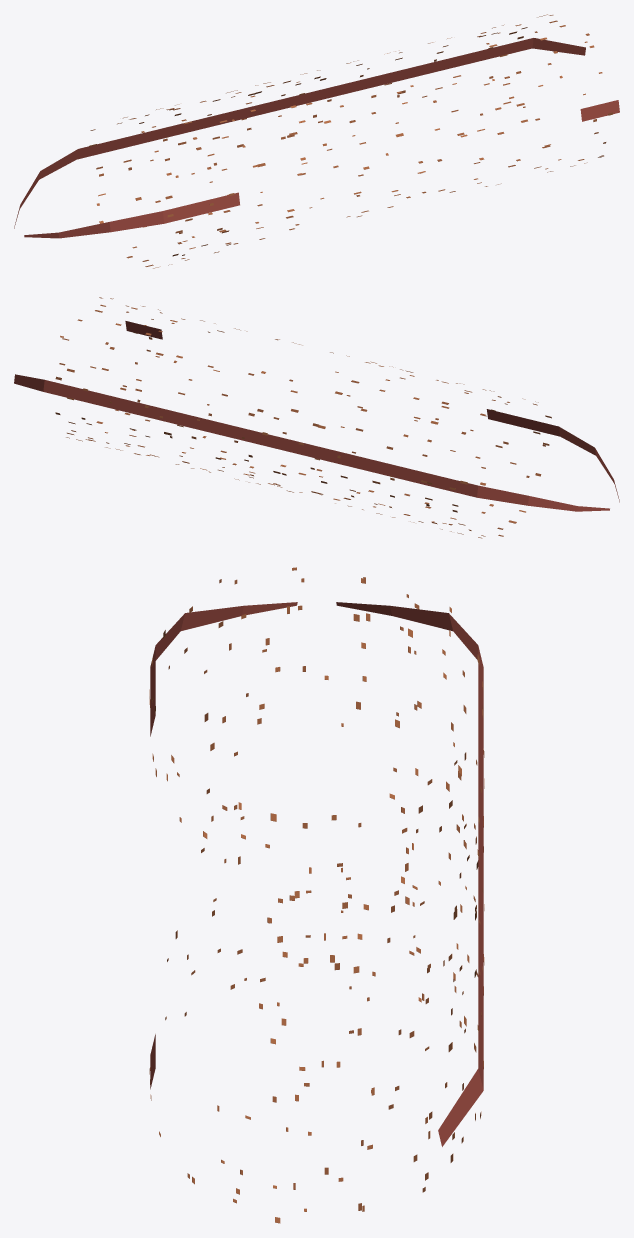
File: Hull_Surface_Details.glb
The picture shows the model from 3 angles, top to bottom: view 1: azimuth 30°, elevation 25°; view 2: azimuth 150°, elevation 25°; view 3: azimuth 270°, elevation 25°; orthographic projection. The views are drawn at different scales.
Visible parts, largest first — view 1: Hull_Surface_Details; view 2: Hull_Surface_Details; view 3: Hull_Surface_Details.
Boxes of the visible parts, x1,y1,x2,y2 form: Hull_Surface_Details: (14, 14, 619, 268); Hull_Surface_Details: (14, 297, 619, 538); Hull_Surface_Details: (149, 567, 484, 1223).
Bounding box in the file's own units: 23.65 × 5.02 × 6.02.
